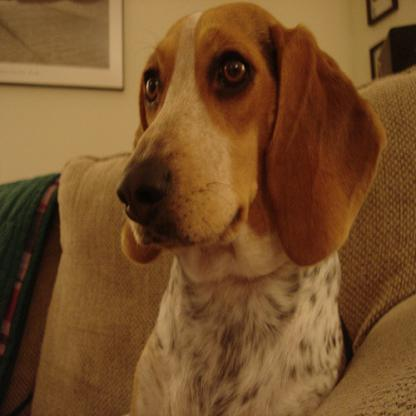dog: (116, 1, 387, 415)
